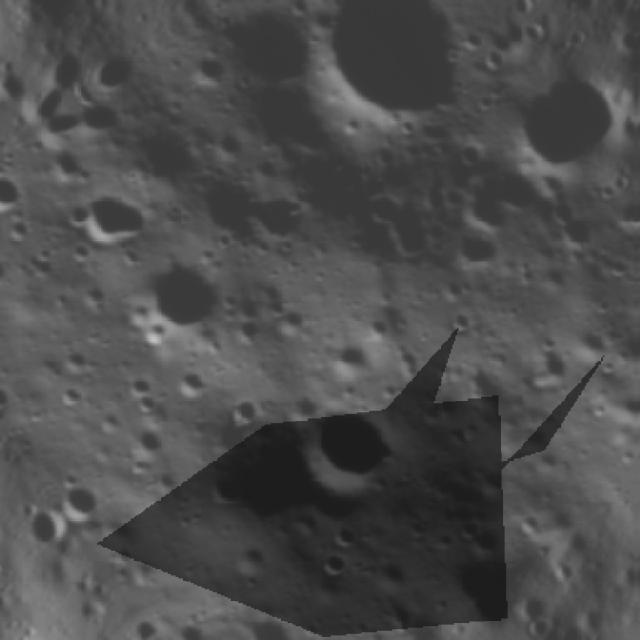crater: (282, 0, 500, 157), (268, 363, 412, 514), (190, 141, 324, 276), (61, 161, 173, 270), (122, 242, 233, 348), (492, 83, 592, 186), (442, 220, 512, 288), (174, 40, 238, 102), (51, 470, 114, 532), (0, 162, 43, 232)
